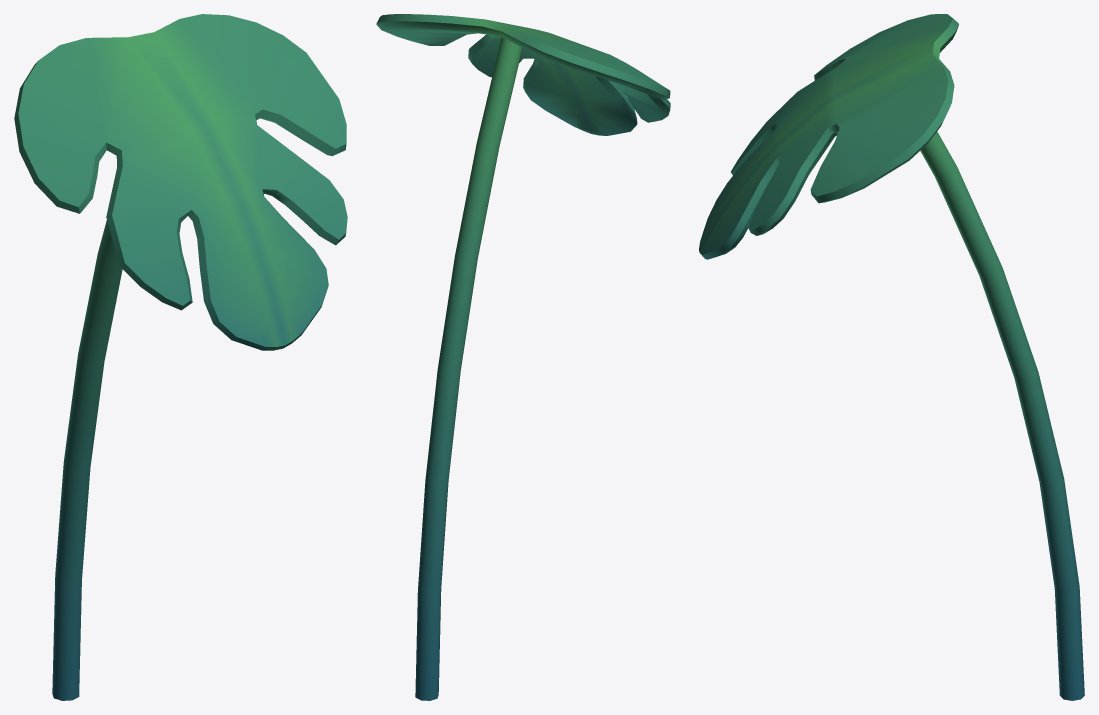
File: house_plants_plants_large_monstera_leaf.glb
3 renders of one model, left to right at view 1: azimuth 30°, elevation 25°; view 2: azimuth 150°, elevation 25°; view 3: azimuth 270°, elevation 25°, orthographic. The views are drawn at different scales.
Parts seen in each view (by area): view 1: monstera_leaf_large_C; view 2: monstera_leaf_large_C; view 3: monstera_leaf_large_C.
Part boxes in pixels (bbox=[...]): monstera_leaf_large_C: bbox=[14, 14, 347, 700]; monstera_leaf_large_C: bbox=[376, 14, 670, 700]; monstera_leaf_large_C: bbox=[699, 14, 1084, 700].
Size of the model in its own units: 1.28 by 2.86 by 1.54.
Materials: 1 (1 with a texture image).
